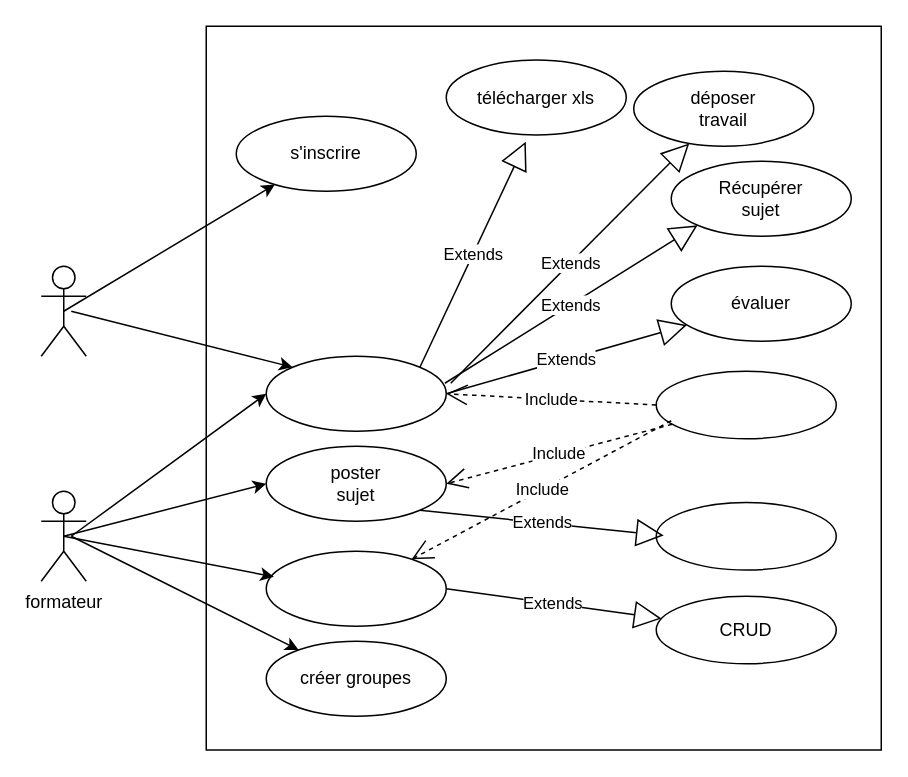
Some shapes in this 908 by 777 pixel diagram are drawn without their labels. The shapes that lost their labels are listed below. From the top down, each one's centre as x and y in pixels, then its label:
At (x=63, y=310): "etudiant".
At (x=355, y=393): "voir dashboard sujet".
At (x=745, y=404): "se connecter".
At (x=745, y=535): "établir critères".
At (x=355, y=588): "gérer les utilisateurs".
